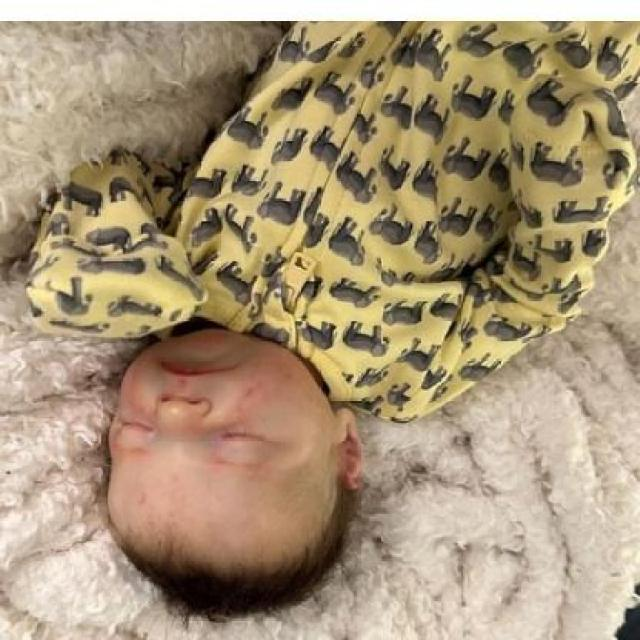baby: (24, 26, 634, 619)
